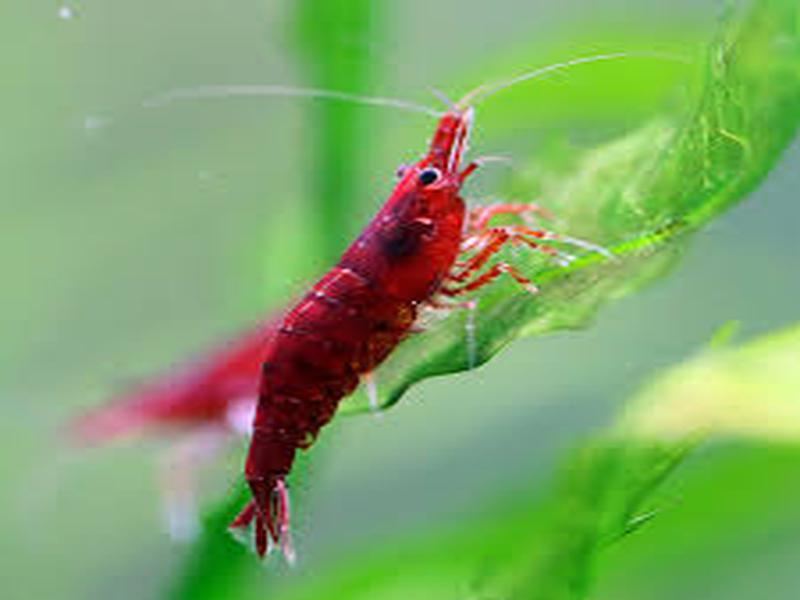shrimp: (232, 104, 544, 568)
